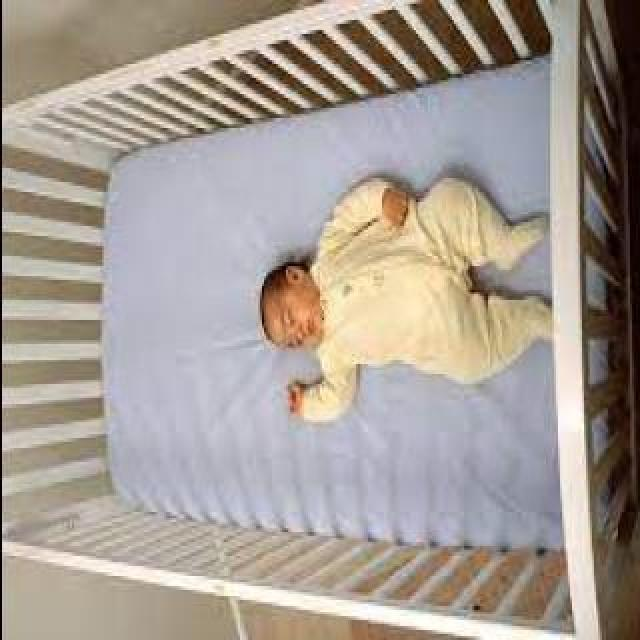baby: (253, 174, 553, 420)
